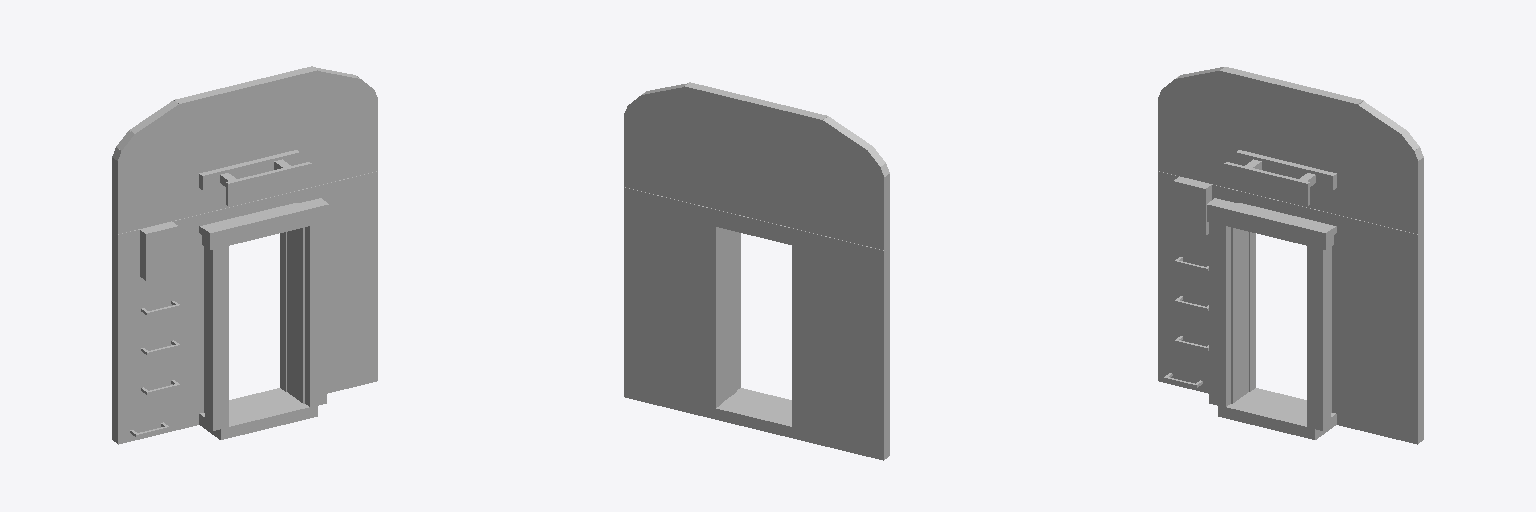
Rendered from end_face_original_25k_4.obj.
The picture shows the model from 3 angles: view 1: azimuth 30°, elevation 25°; view 2: azimuth 150°, elevation 25°; view 3: azimuth 330°, elevation 25°; orthographic projection.
Visible parts, largest first — view 1: cube; view 2: cube; view 3: cube.
Boxes of the visible parts, x1=… form: cube: x1=112, y1=66, x2=377, y2=444; cube: x1=624, y1=82, x2=889, y2=460; cube: x1=1158, y1=67, x2=1423, y2=444.
Size of the model in its own units: 3 by 3.58 by 0.5625.